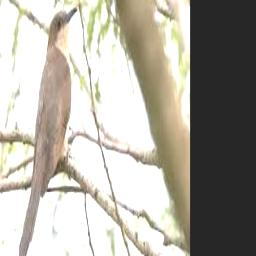Cuckoo: (16, 7, 77, 256)
